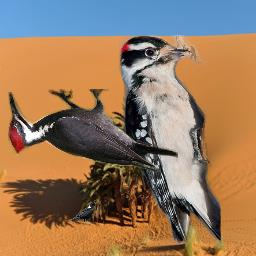Crow: (70, 201, 98, 225)
Woodpecker: (119, 35, 221, 244), (8, 89, 178, 172)
